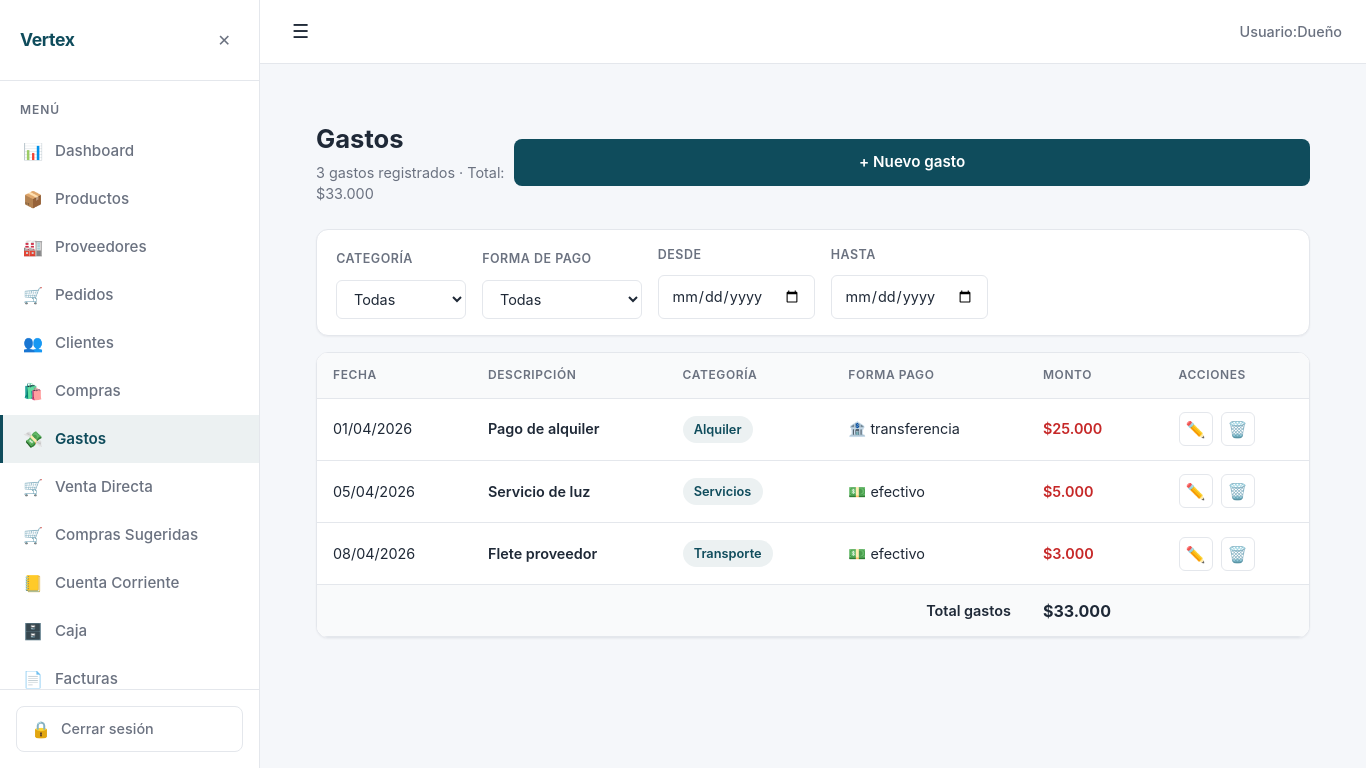
Test: Gastos › debería filtrar por forma de pago
Select "💵 efectivo" in the dropdown below "Forma de pago": (562, 300) [482,280,642,319]
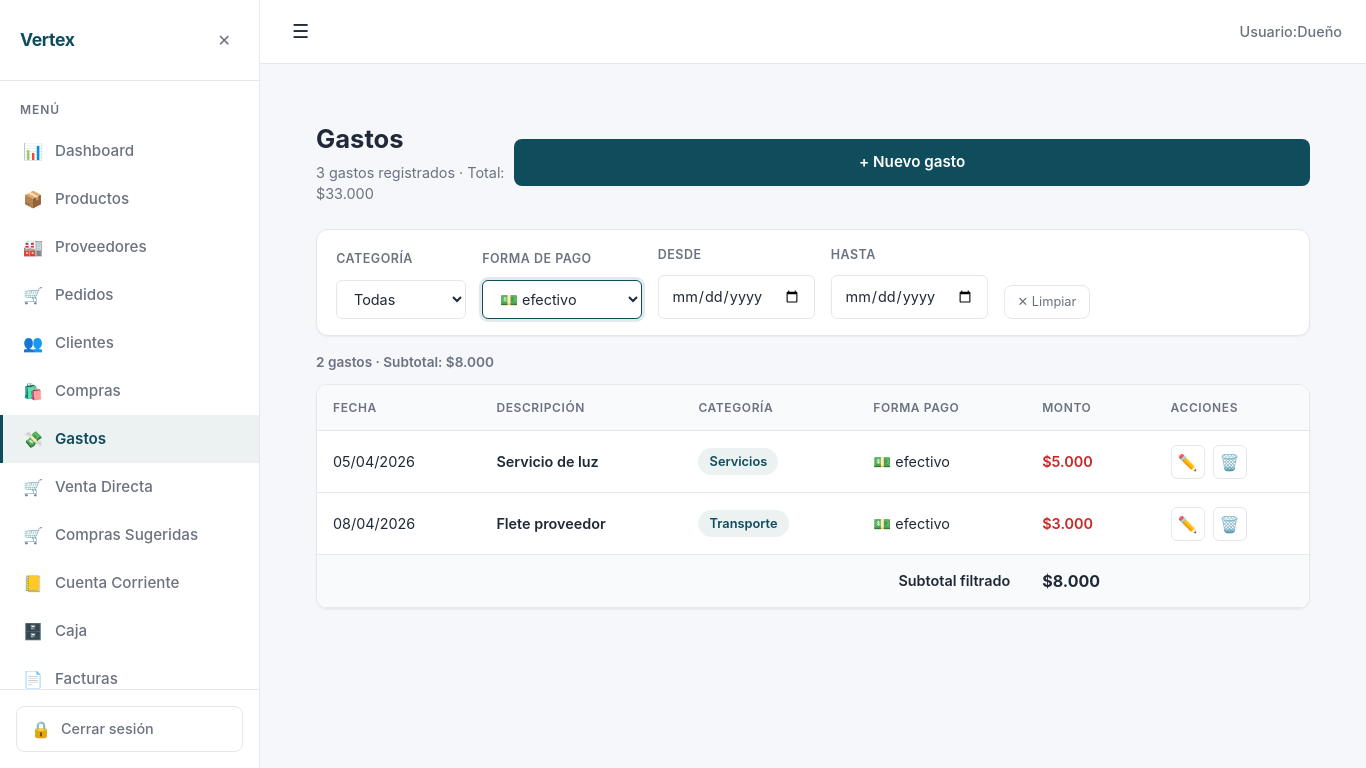
Expected: the text "Servicio de luz" is shown, [496,453,599,470]
Result: the text "Pago de alquiler" is gone
